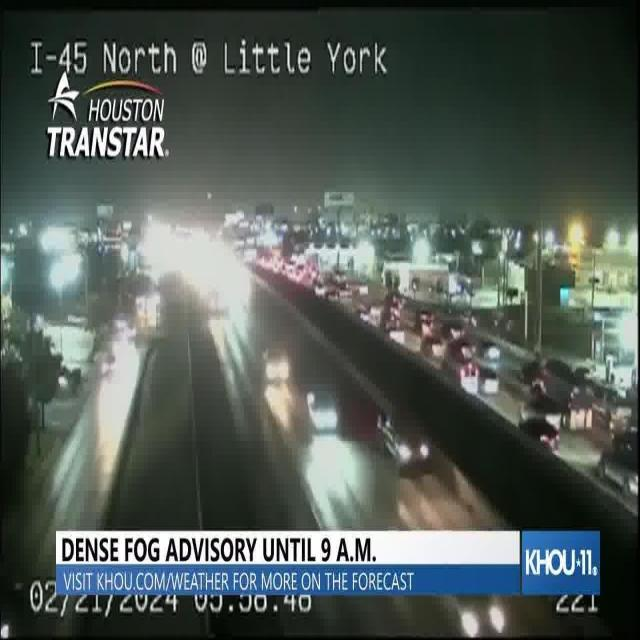Car: (376, 407, 430, 474), (306, 386, 341, 434), (262, 343, 292, 386)
